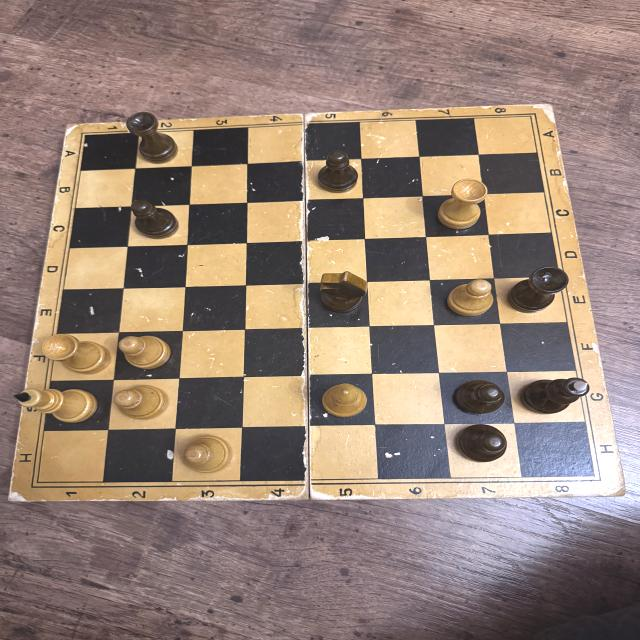black-king: (518, 376, 590, 414)
black-knight: (318, 270, 368, 315)
black-pawn: (453, 421, 509, 464), (128, 196, 180, 242), (454, 376, 507, 415), (316, 148, 359, 194)
black-rook: (504, 266, 569, 313), (125, 112, 181, 163)
white-bishop: (321, 382, 368, 419)
white-king: (14, 387, 100, 424)
white-pawn: (110, 386, 170, 421), (181, 436, 233, 474), (116, 335, 172, 370), (446, 279, 496, 318)
white-rook: (42, 333, 110, 376), (439, 179, 487, 231)
